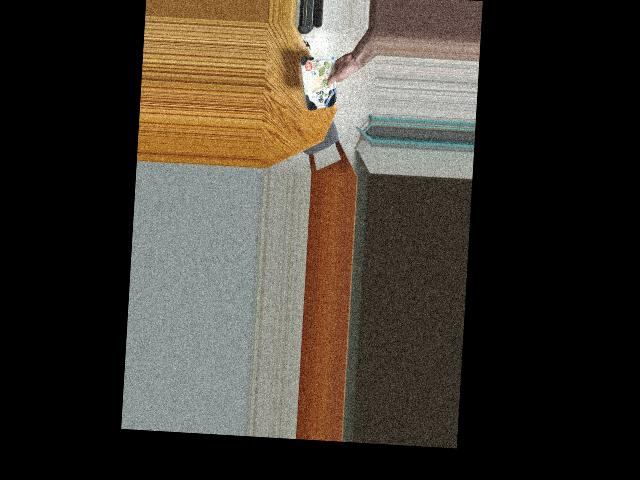cheese: (296, 55, 340, 111)
